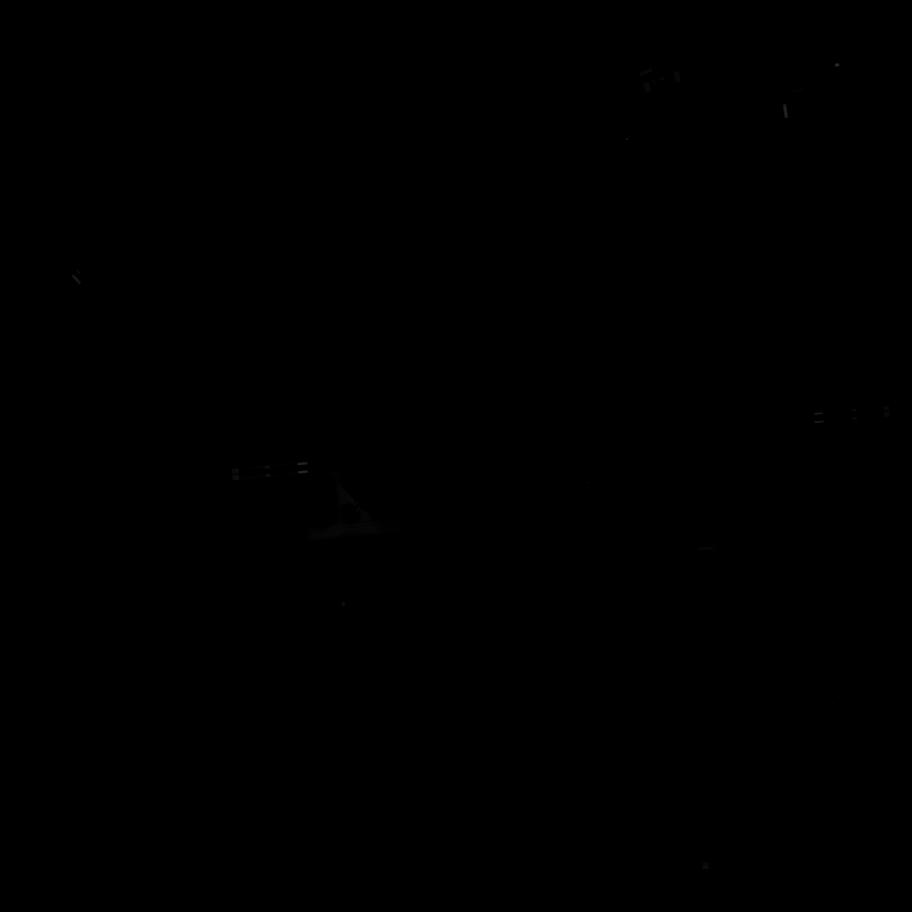plane: (463, 544, 476, 557)
